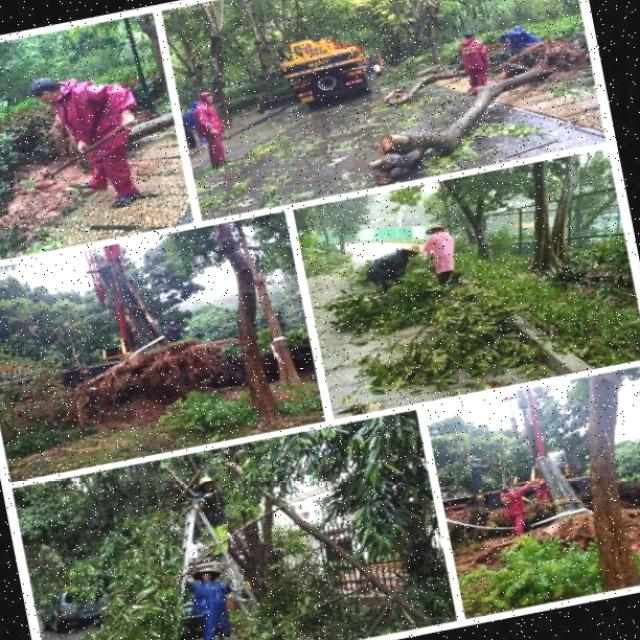fallen_object: (221, 436, 435, 640), (352, 33, 592, 182), (69, 312, 236, 415)
